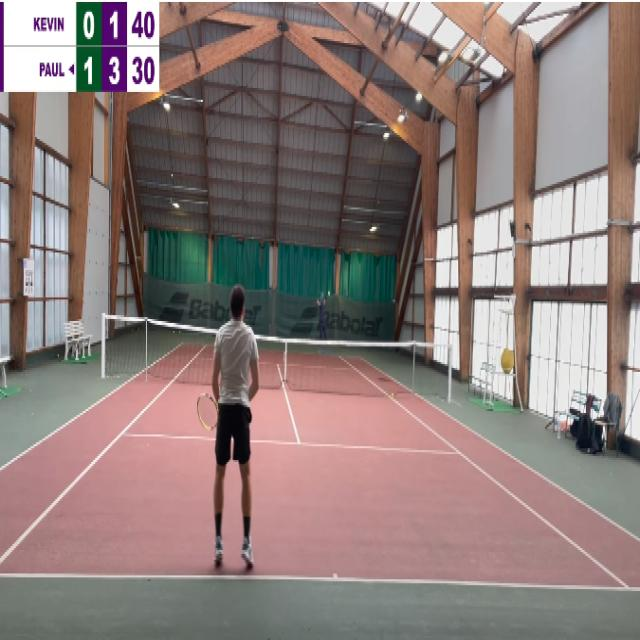ball: (391, 392, 394, 400), (328, 291, 330, 296)
